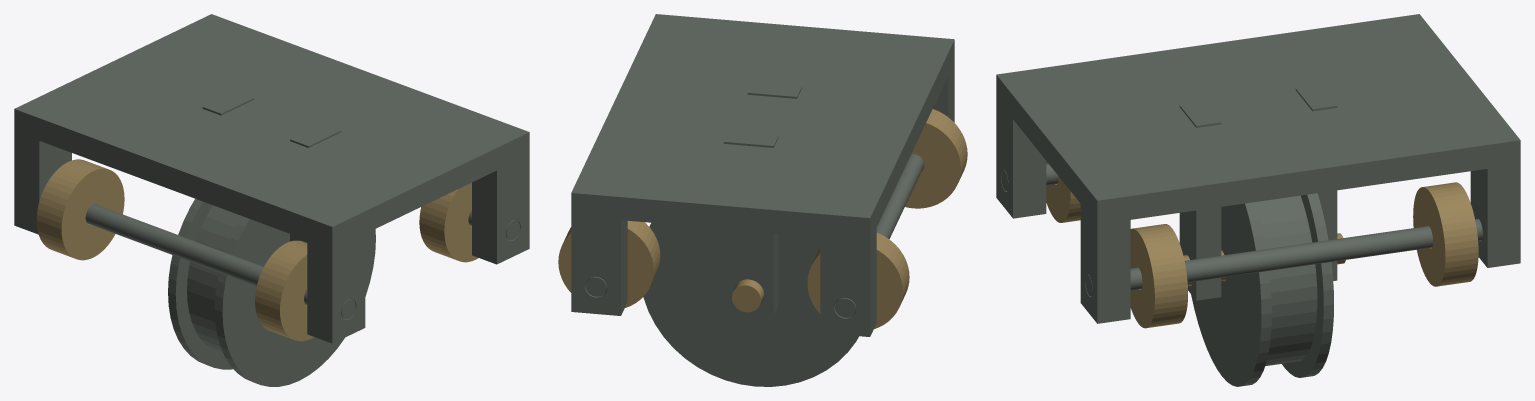
File: diagonal-trolley.glb
3 views of the same model, side by side, from view 1: azimuth 30°, elevation 25°; view 2: azimuth 150°, elevation 25°; view 3: azimuth 270°, elevation 25° (orthographic). The views are drawn at different scales.
Visible parts, largest first — view 1: trolley-topplate.001, sheave-flange.016, trolley-wheel.035, axle-bearing.034, axle-bearing.032, trolley-wheel.034, trolley-axle.017, axle-bearing.035, sheave-groove.008, sheave-flange.017, trolley-wheel.032, sheave-hanger.016 (+1 smaller); view 2: trolley-topplate.001, sheave-flange.017, axle-bearing.035, axle-bearing.033, sheave-hanger.017, trolley-wheel.034, trolley-wheel.035, trolley-wheel.033, trolley-axle.017, sheave-shaft.008, sheave-hanger.016, axle-bearing.034 (+1 smaller); view 3: trolley-topplate.001, sheave-flange.016, sheave-groove.008, trolley-axle.016, axle-bearing.032, trolley-wheel.033, trolley-wheel.032, axle-bearing.033, axle-bearing.034, sheave-hanger.016, sheave-flange.017, sheave-hanger.017 (+1 smaller).
Part boxes in pixels (bbox=[...]): trolley-topplate.001: bbox=[14, 14, 529, 244]; sheave-flange.016: bbox=[214, 216, 375, 386]; trolley-wheel.035: bbox=[36, 159, 124, 260]; axle-bearing.034: bbox=[307, 223, 365, 343]; axle-bearing.032: bbox=[472, 143, 529, 264]; trolley-wheel.034: bbox=[255, 240, 313, 341]; trolley-axle.017: bbox=[85, 204, 355, 319]; axle-bearing.035: bbox=[14, 120, 71, 234]; sheave-groove.008: bbox=[187, 205, 241, 354]; sheave-flange.017: bbox=[168, 199, 232, 369]; trolley-wheel.032: bbox=[419, 182, 478, 262]; sheave-hanger.016: bbox=[290, 123, 341, 242]; trolley-topplate.001: bbox=[571, 14, 954, 239]; sheave-flange.017: bbox=[643, 222, 858, 386]; axle-bearing.035: bbox=[820, 224, 876, 336]; axle-bearing.033: bbox=[571, 204, 627, 315]; sheave-hanger.017: bbox=[724, 131, 778, 314]; trolley-wheel.034: bbox=[905, 109, 967, 208]; trolley-wheel.035: bbox=[807, 233, 909, 328]; trolley-wheel.033: bbox=[558, 221, 660, 307]; trolley-axle.017: bbox=[835, 154, 924, 317]; sheave-shaft.008: bbox=[732, 279, 764, 312]; sheave-hanger.016: bbox=[747, 82, 801, 98]; axle-bearing.034: bbox=[933, 53, 954, 122]; trolley-topplate.001: bbox=[996, 14, 1520, 224]; sheave-flange.016: bbox=[1191, 202, 1271, 386]; sheave-groove.008: bbox=[1255, 195, 1317, 365]; trolley-axle.016: bbox=[1085, 219, 1482, 296]; axle-bearing.032: bbox=[1080, 192, 1130, 323]; trolley-wheel.033: bbox=[1413, 182, 1478, 286]; trolley-wheel.032: bbox=[1130, 224, 1187, 328]; axle-bearing.033: bbox=[1470, 152, 1520, 267]; axle-bearing.034: bbox=[996, 87, 1046, 218]; sheave-hanger.016: bbox=[1179, 101, 1221, 300]; sheave-flange.017: bbox=[1282, 193, 1333, 377]; sheave-hanger.017: bbox=[1295, 85, 1337, 280].
Bounding box in the file's own units: 1.04 × 0.67 × 1.2.
